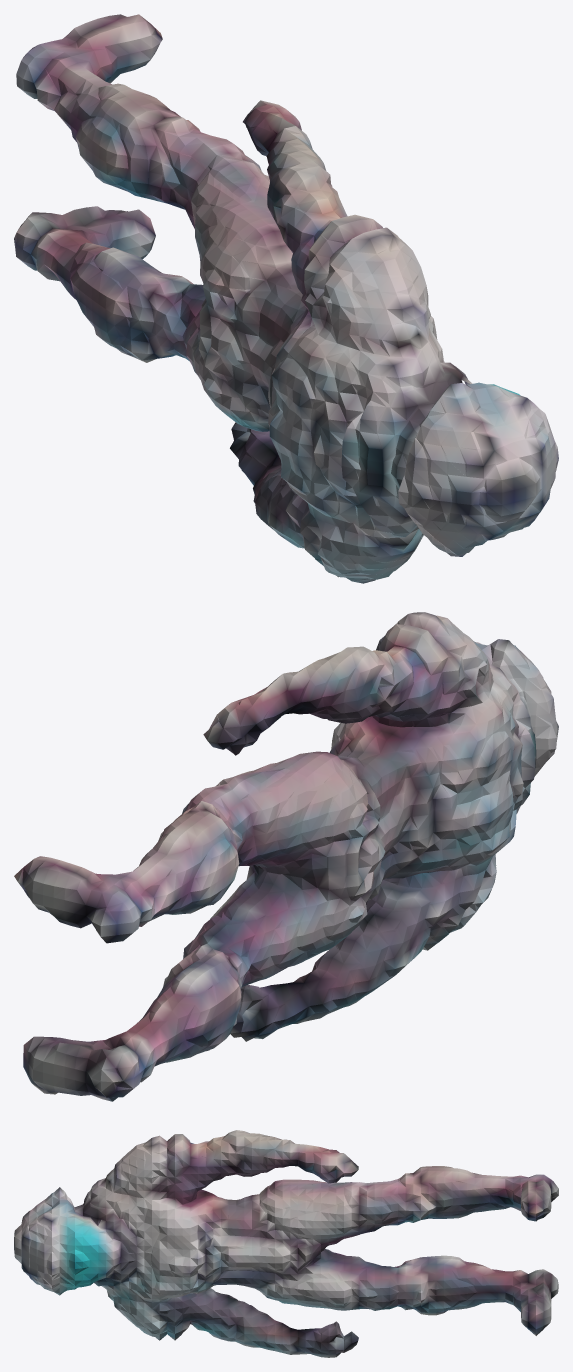
File: future_commoner_m_0.glb
3 renders of one model, top to bottom at view 1: azimuth 30°, elevation 25°; view 2: azimuth 150°, elevation 25°; view 3: azimuth 270°, elevation 25°, orthographic. The views are drawn at different scales.
Parts seen in each view (by area): view 1: world; view 2: world; view 3: world.
Boxes of the visible parts, bbox=[...] form: world: bbox=[14, 14, 558, 583]; world: bbox=[14, 612, 558, 1101]; world: bbox=[14, 1130, 558, 1357].
Bounding box in the file's own units: 0.2439 × 0.4242 × 0.9719.
